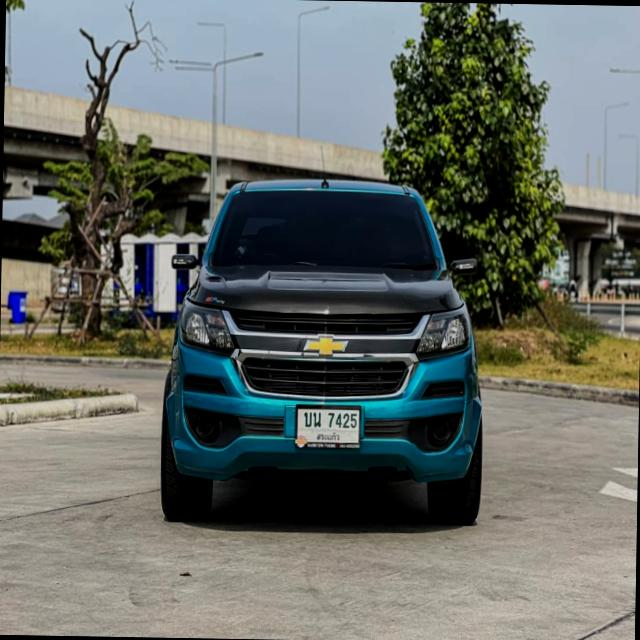license_plate: (293, 402, 362, 452)
